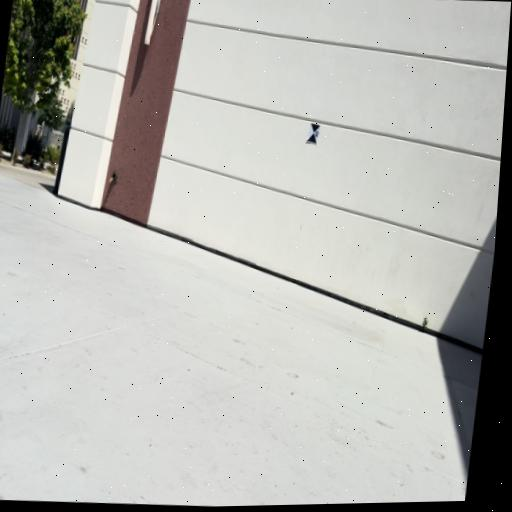target0: (306, 122, 321, 144)
